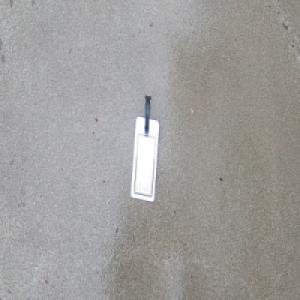LuggageTag: (129, 95, 160, 202)
